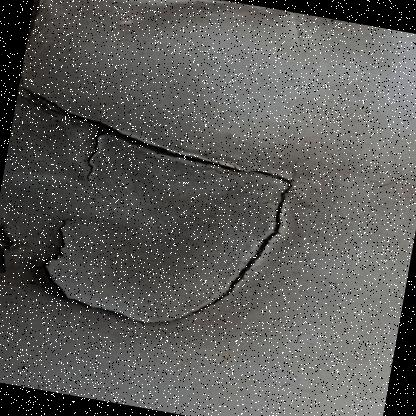Crack: (0, 0, 401, 397)
